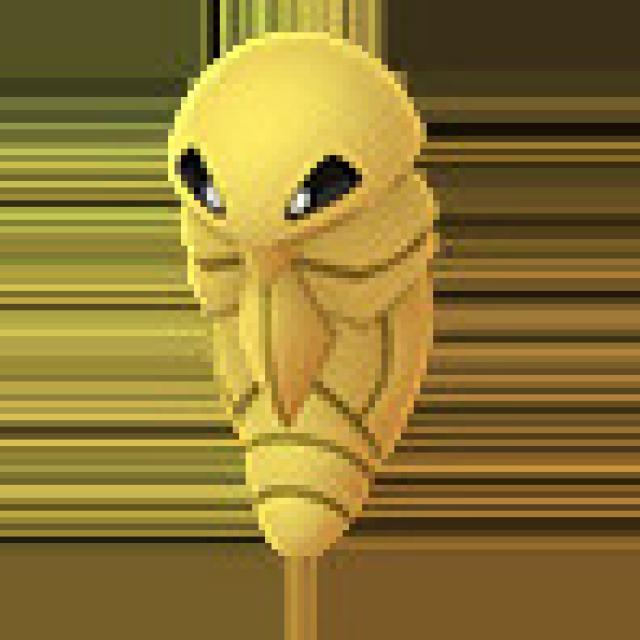Kakuna: (166, 30, 444, 560)
